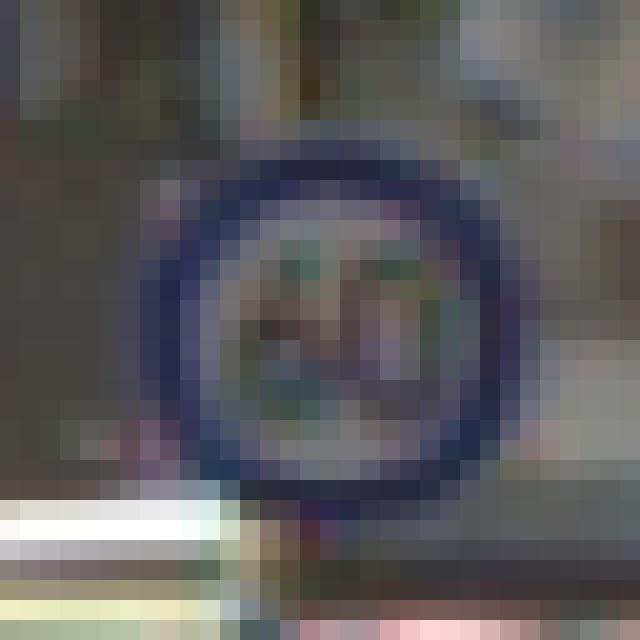SPEED-LIMIT-60: (156, 144, 540, 523)
